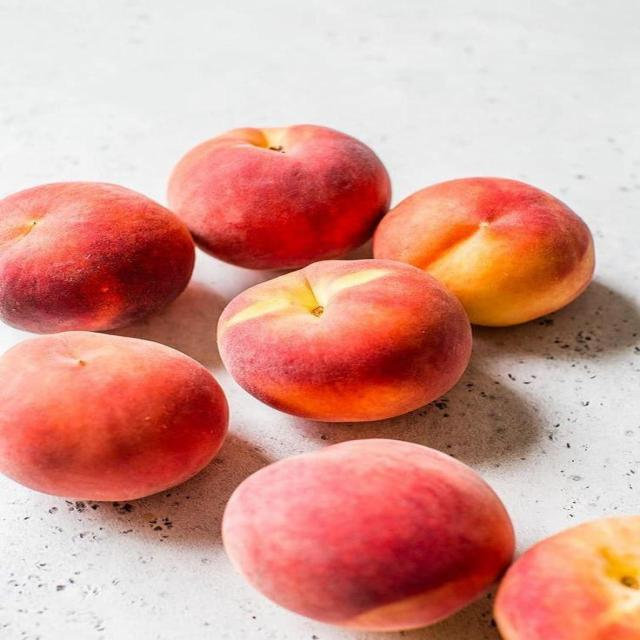peach: (224, 440, 508, 630), (217, 259, 475, 414), (2, 331, 230, 504), (1, 179, 196, 332), (176, 125, 386, 254), (382, 176, 602, 284)
